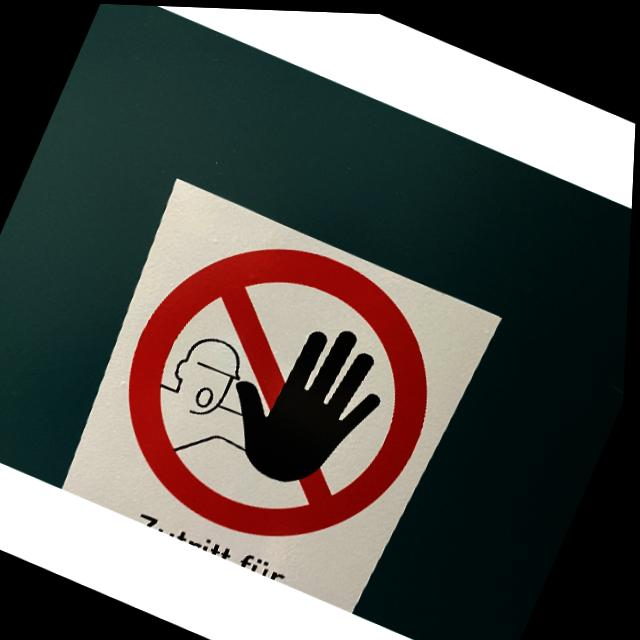No access for unauthorized persons: (85, 198, 477, 583)
